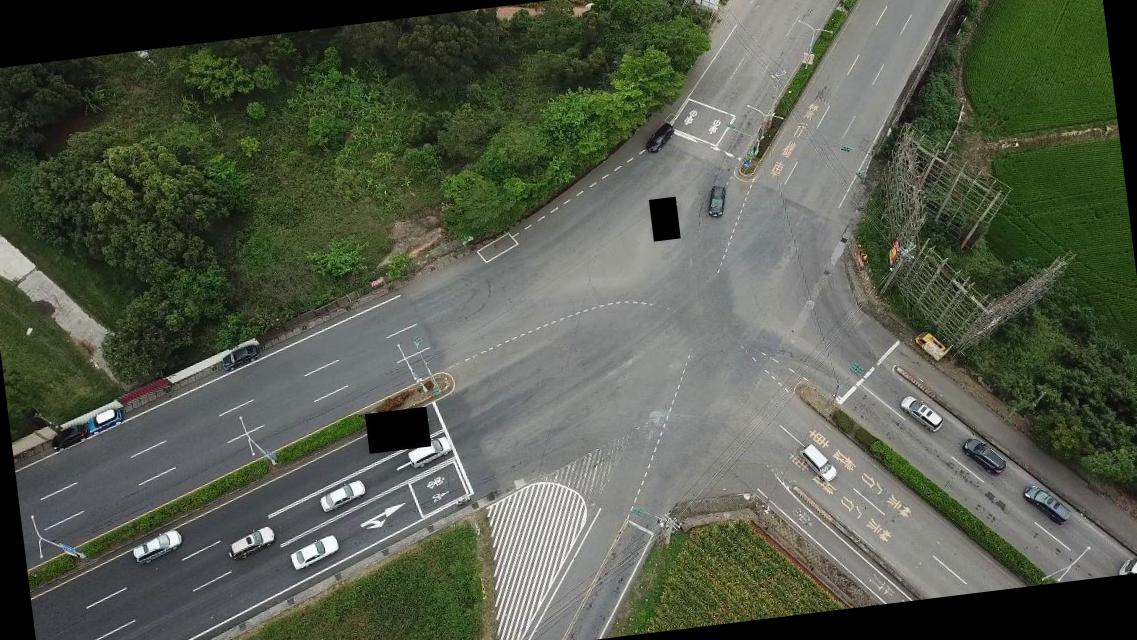vehicle: (1023, 479, 1070, 528), (961, 433, 1006, 478), (225, 524, 278, 562), (130, 528, 185, 564), (286, 534, 340, 570), (899, 391, 943, 435), (796, 439, 836, 484), (404, 434, 452, 469), (318, 478, 367, 512), (220, 342, 264, 372), (641, 118, 676, 154), (85, 404, 123, 436), (48, 422, 88, 450), (913, 328, 945, 359), (704, 184, 727, 217)
